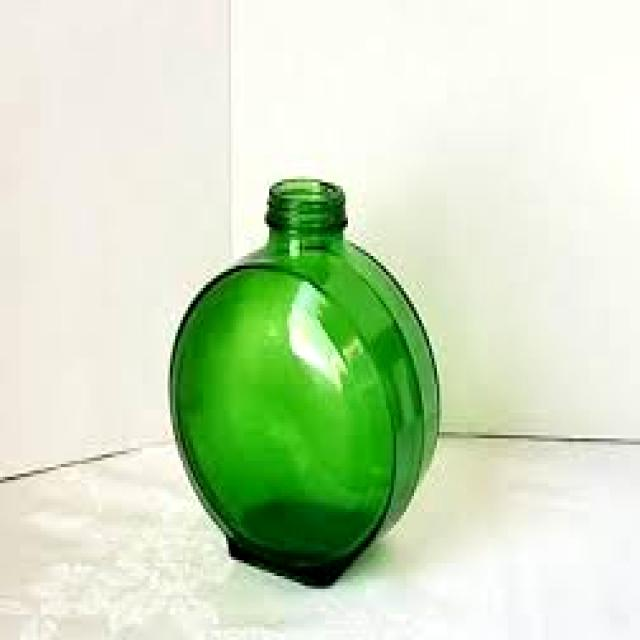Glass: (168, 176, 442, 588)
